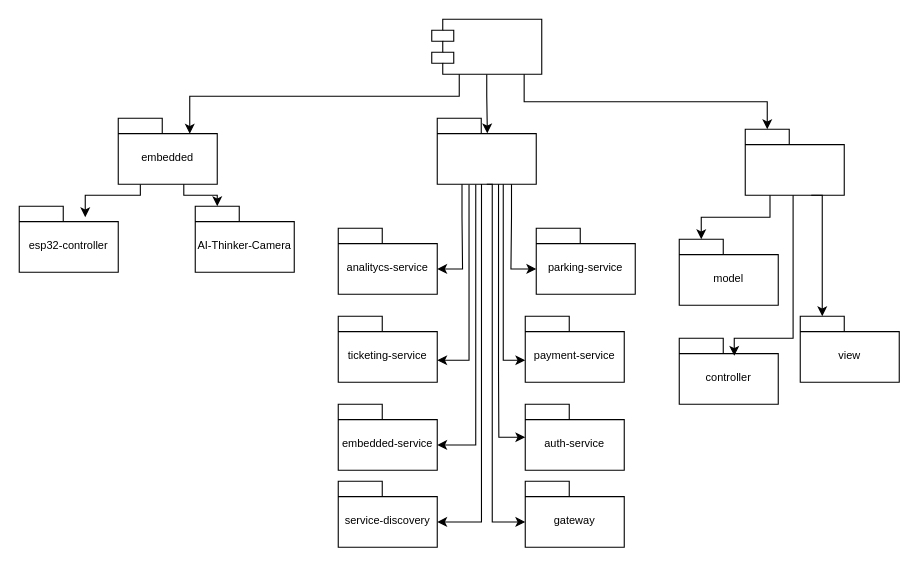
Some shapes in this 919 by 567 pixel diagram are drawn without their labels. The box of each missing label's shape, as (x1, y1, x2, y2) in pixels:
backend: (436, 117, 536, 184)
frontend: (744, 128, 844, 195)
SmartParking: (431, 18, 542, 74)
